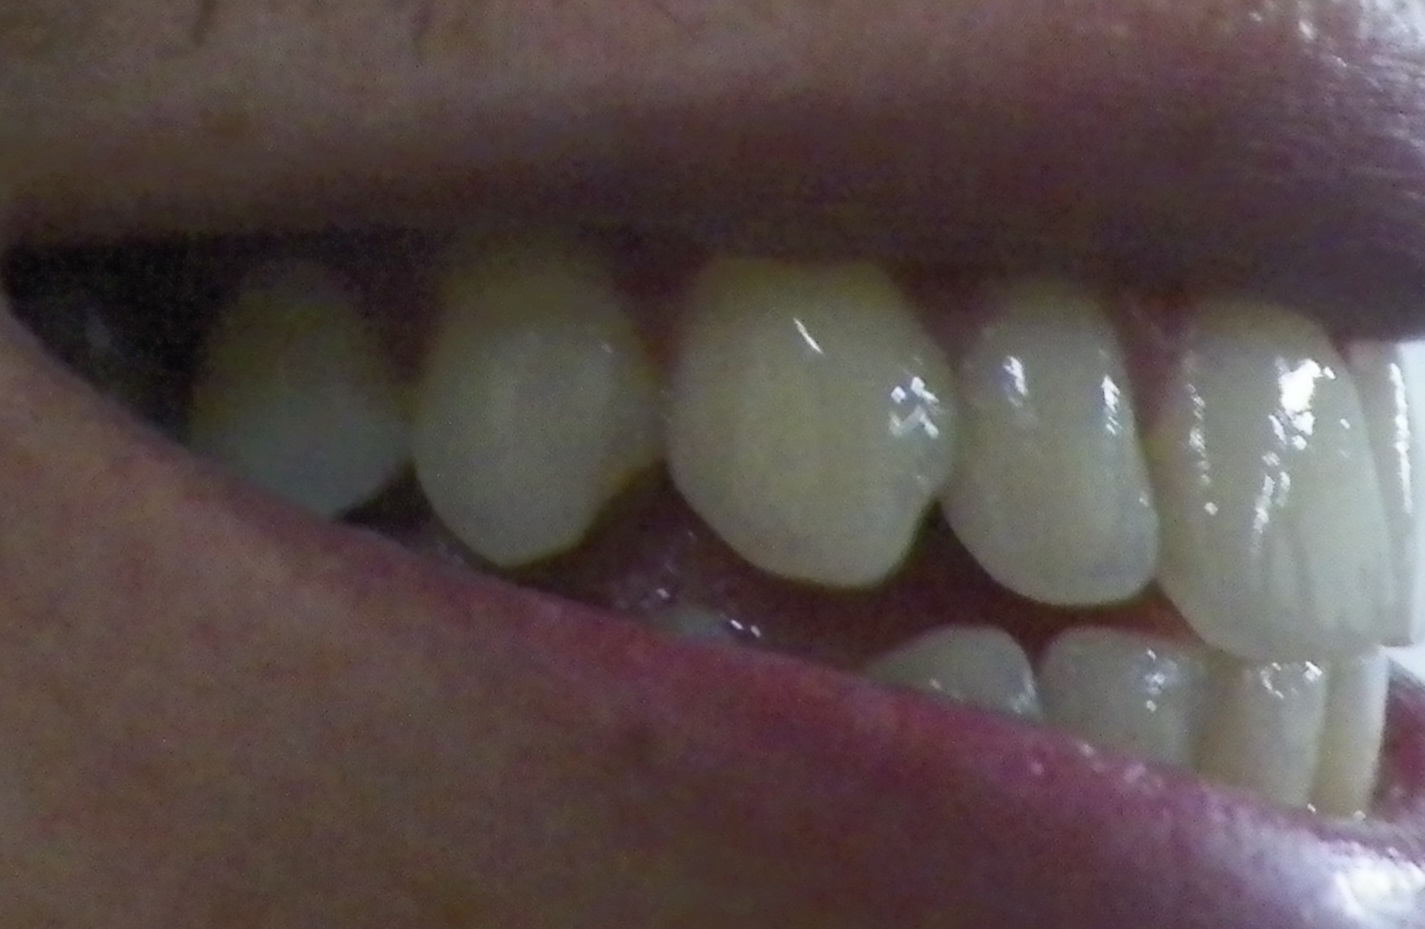boca: (101, 257, 1405, 827)
